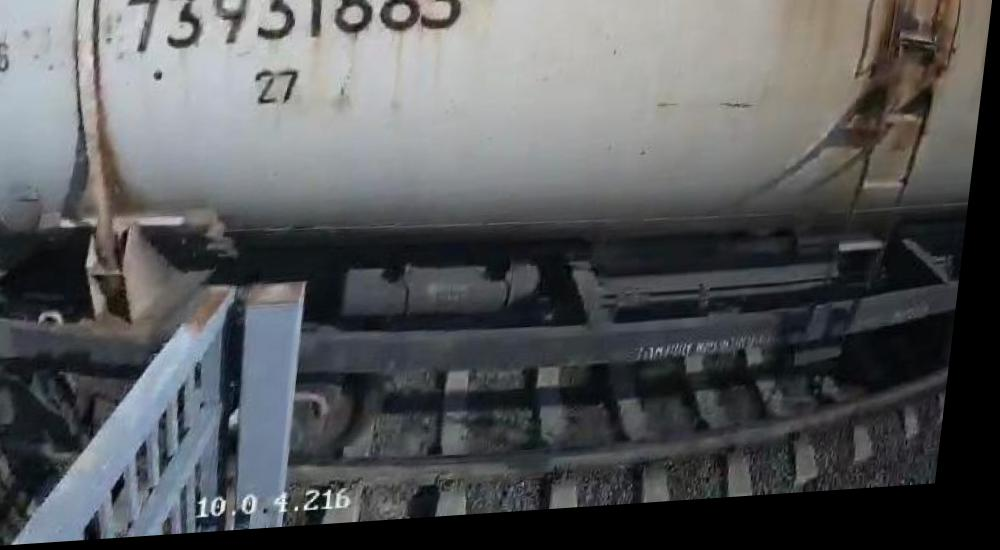Wagon-number: (117, 0, 470, 57)
